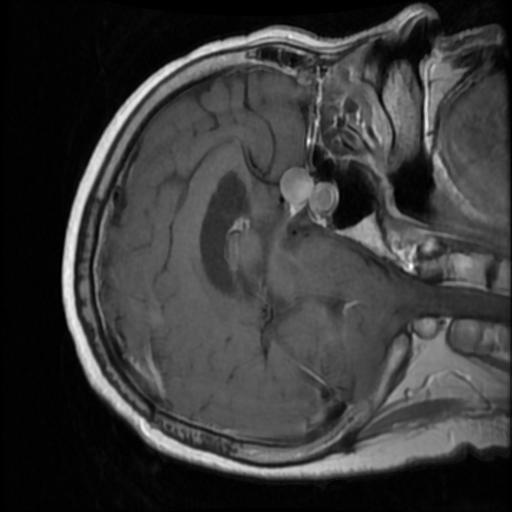pituitary tumour: (279, 166, 337, 215)
